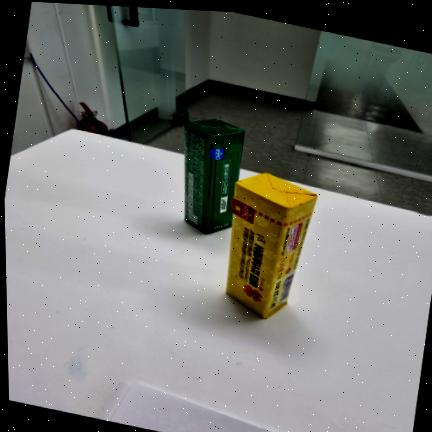gum_green: (184, 119, 244, 235)
gum_yellow: (226, 172, 318, 320)
